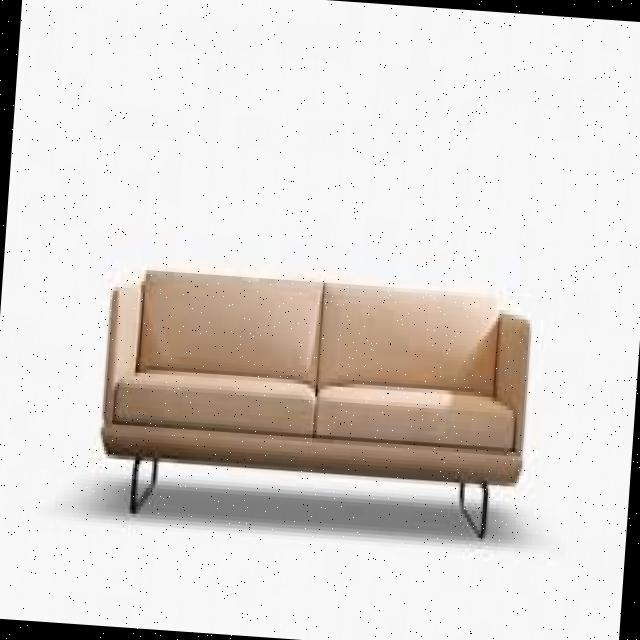Sofa: (78, 223, 554, 564)
